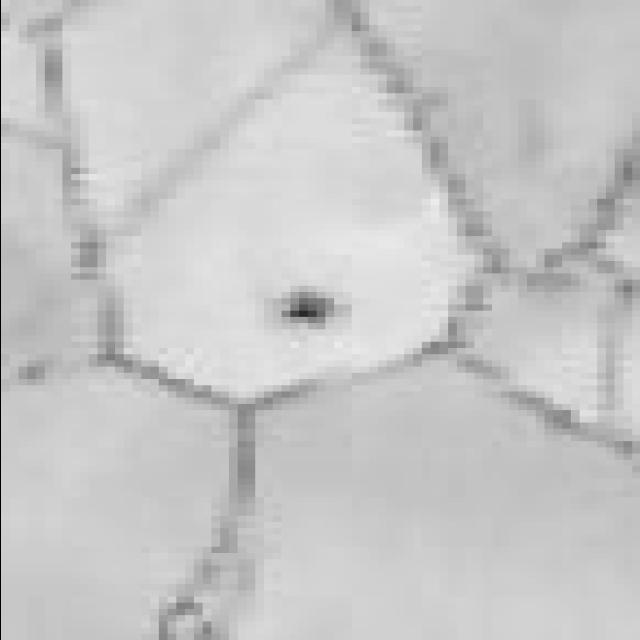good_void: (270, 285, 345, 332)
